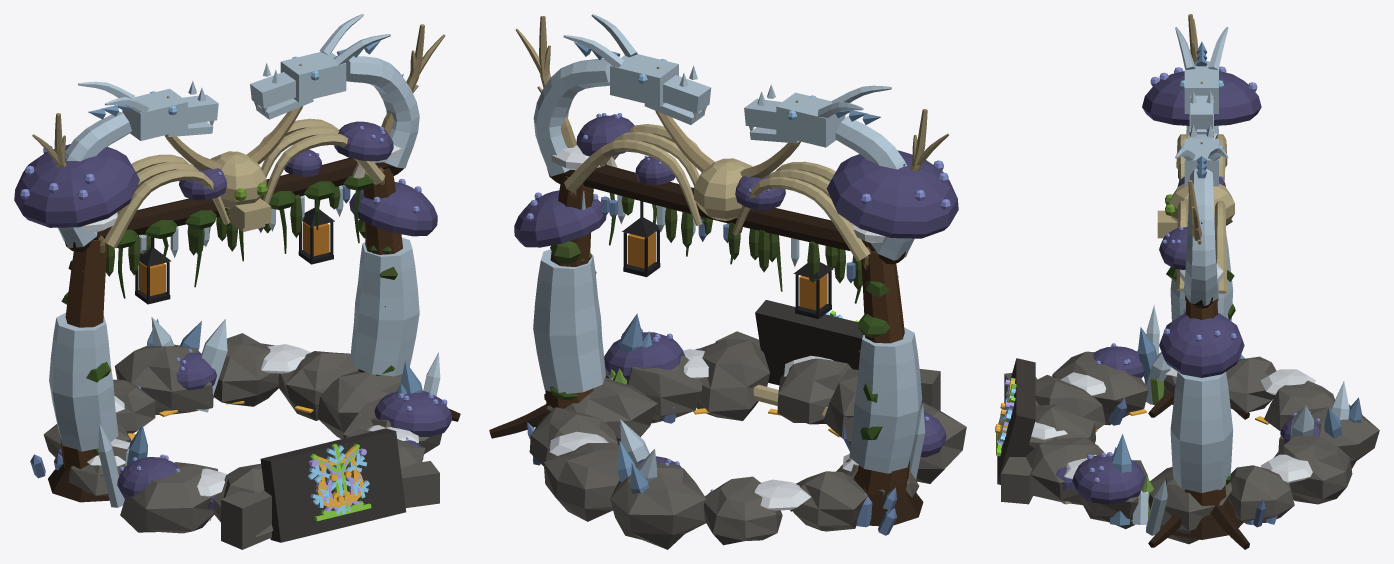
Rendered from VFP_RuneCauldron.obj.
The picture shows the model from 3 angles, left to right: view 1: azimuth 30°, elevation 25°; view 2: azimuth 150°, elevation 25°; view 3: azimuth 270°, elevation 25°; orthographic projection. The views are drawn at different scales.
Visible parts, largest first — view 1: B_Stones, S3_Caps, S4_Dragons, S4_IcePosts, B_Slab, S2_Bones, B_Posts, B_Slab_stone, S1_Ivy, B_Beam, S4_Crystals, S4_Frost (+14 smaller); view 2: B_Stones, S3_Caps, S4_Dragons, S4_IcePosts, S2_Bones, B_Beam, B_Slab, B_Posts, S2_Moss, S4_Frost, S2_Skull, B_Lantern (+13 smaller); view 3: B_Stones, S3_Caps, S4_Dragons, S4_IcePosts, S4_Frost, S4_Crystals, B_Slab, S4_Crystals_ice_deep, S2_Bones, B_Roots, B_Slab_stone, S2_Skull (+5 smaller).
Boxes of the visible parts, box(x1,y1,x2,y2) form: B_Stones: box(43, 333, 441, 536); S3_Caps: box(14, 121, 452, 508); S4_Dragons: box(58, 14, 419, 248); S4_IcePosts: box(49, 237, 419, 451); B_Slab: box(260, 428, 406, 542); S2_Bones: box(103, 118, 384, 247); B_Posts: box(60, 168, 402, 470); B_Slab_stone: box(221, 461, 439, 549); S1_Ivy: box(61, 173, 394, 453); B_Beam: box(64, 157, 403, 252); S4_Crystals: box(98, 317, 440, 507); S4_Frost: box(83, 145, 418, 497); B_Stones: box(529, 339, 966, 549); S3_Caps: box(514, 115, 958, 493); S4_Dragons: box(533, 14, 914, 260); S4_IcePosts: box(533, 249, 922, 473); S2_Bones: box(564, 124, 870, 417); B_Beam: box(547, 164, 905, 264); B_Slab: box(755, 300, 863, 385); B_Posts: box(545, 176, 910, 495); S2_Moss: box(550, 196, 878, 337); S4_Frost: box(549, 145, 884, 510); S2_Skull: box(694, 158, 752, 220); B_Lantern: box(622, 201, 833, 318); B_Stones: box(1025, 351, 1379, 544); S3_Caps: box(1053, 71, 1319, 504); S4_Dragons: box(1175, 27, 1228, 305); S4_IcePosts: box(1170, 235, 1233, 492); S4_Frost: box(1031, 133, 1315, 483); S4_Crystals: box(1132, 305, 1349, 535); B_Slab: box(997, 358, 1035, 484); S4_Crystals_ice_deep: box(1110, 327, 1361, 525); S2_Bones: box(1176, 134, 1227, 293); B_Roots: box(1148, 389, 1249, 549); B_Slab_stone: box(1001, 373, 1037, 504); S2_Skull: box(1157, 183, 1234, 238).
Size of the model in its own units: 3.18 by 2.96 by 2.7.
